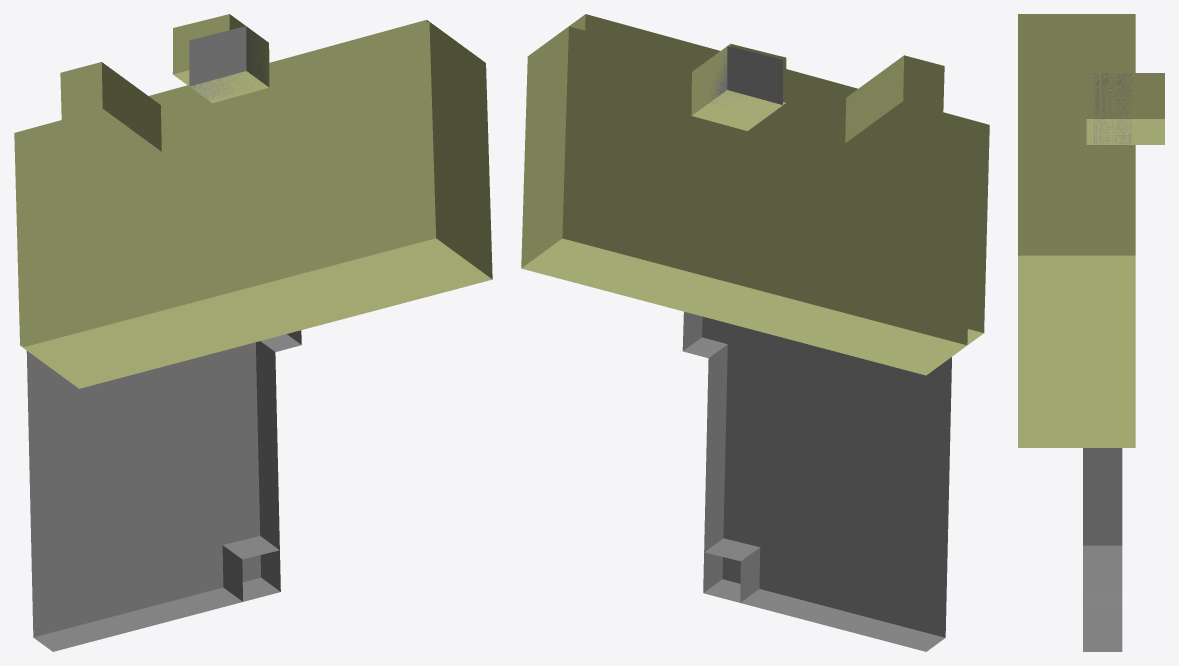
3 views of the same model, side by side, from view 1: azimuth 30°, elevation 25°; view 2: azimuth 150°, elevation 25°; view 3: azimuth 270°, elevation 25° (orthographic). The views are drawn at different scales.
Parts seen in each view (by area): view 1: 0_1_2_0_3_3_1_1_2; view 2: 0_1_2_0_3_3_1_1_2; view 3: 0_1_2_0_3_3_1_1_2.
Boxes of the visible parts, <box> form: 0_1_2_0_3_3_1_1_2: <box>14,14,492,651</box>; 0_1_2_0_3_3_1_1_2: <box>521,14,989,651</box>; 0_1_2_0_3_3_1_1_2: <box>1018,14,1164,651</box>.
Size of the model in its own units: 36.83 by 46.57 by 11.25.
